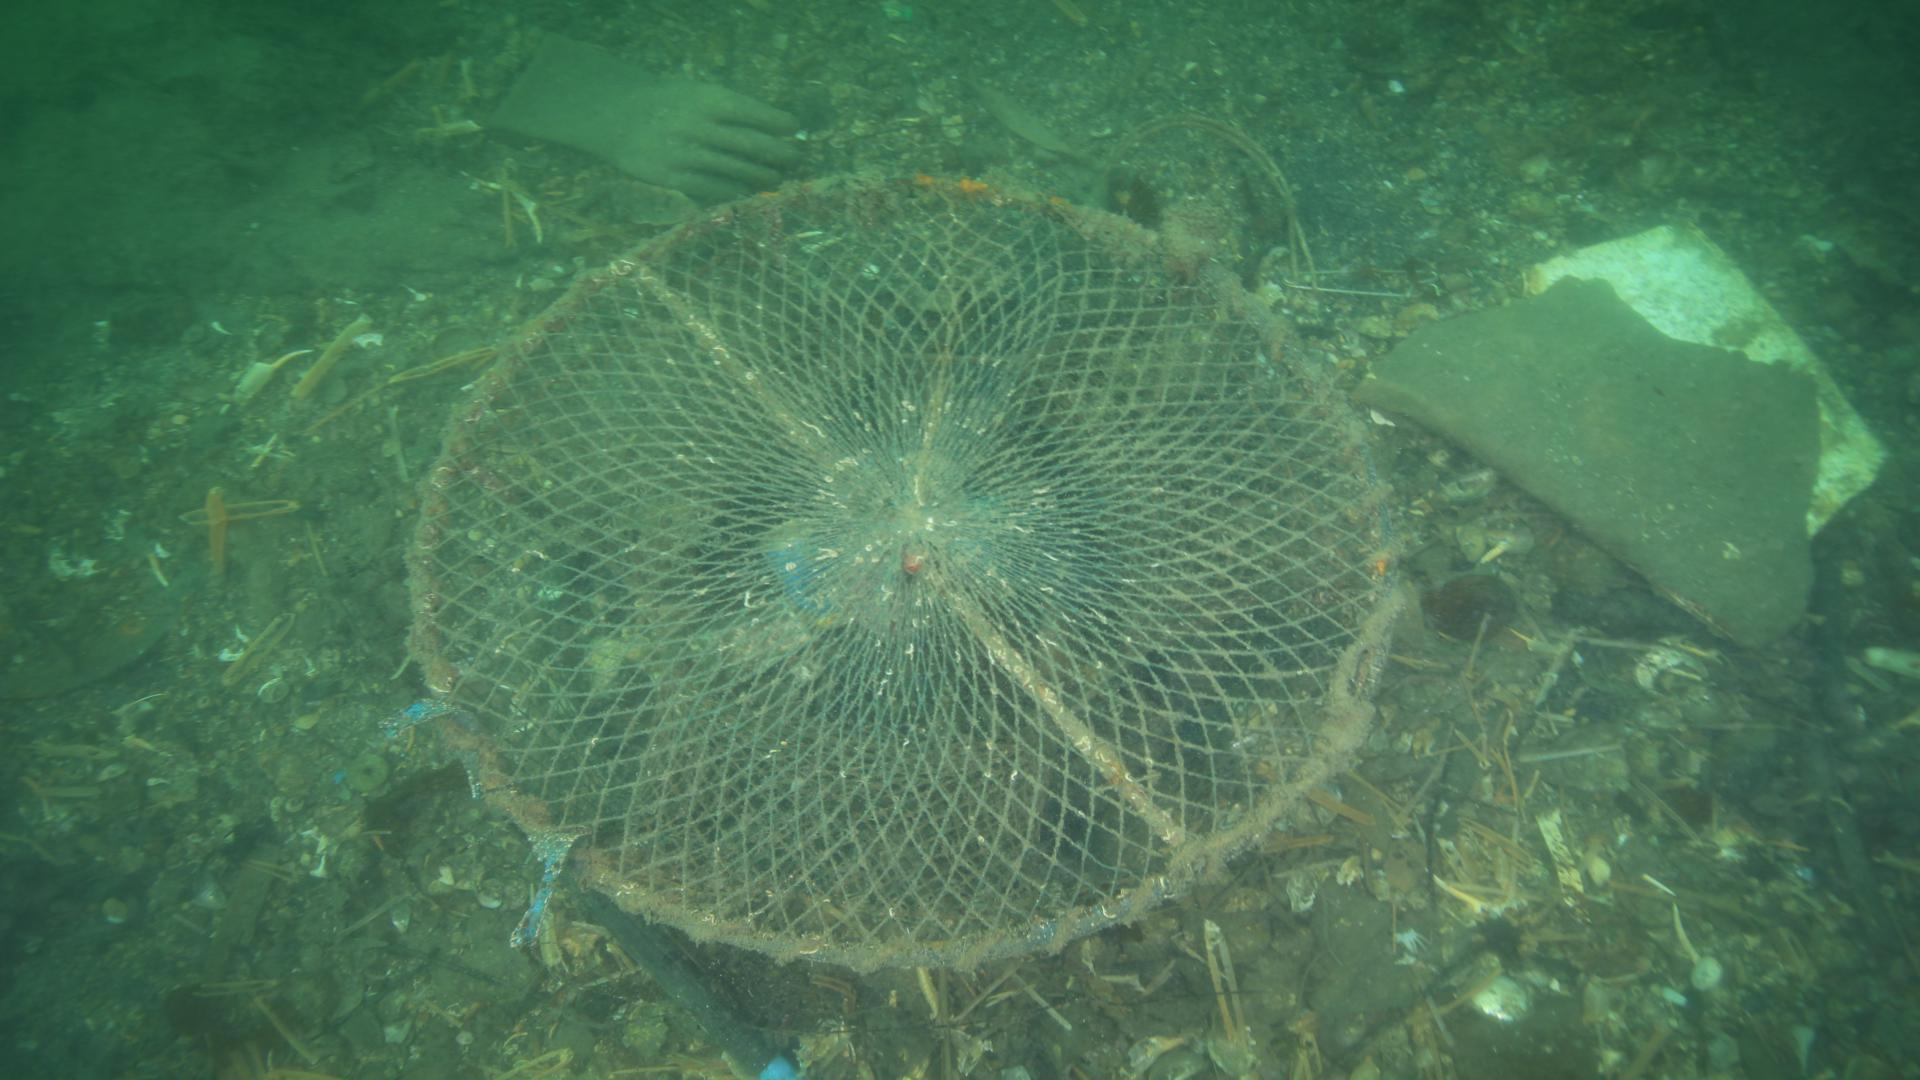circular fish trap: (407, 167, 1402, 969)
